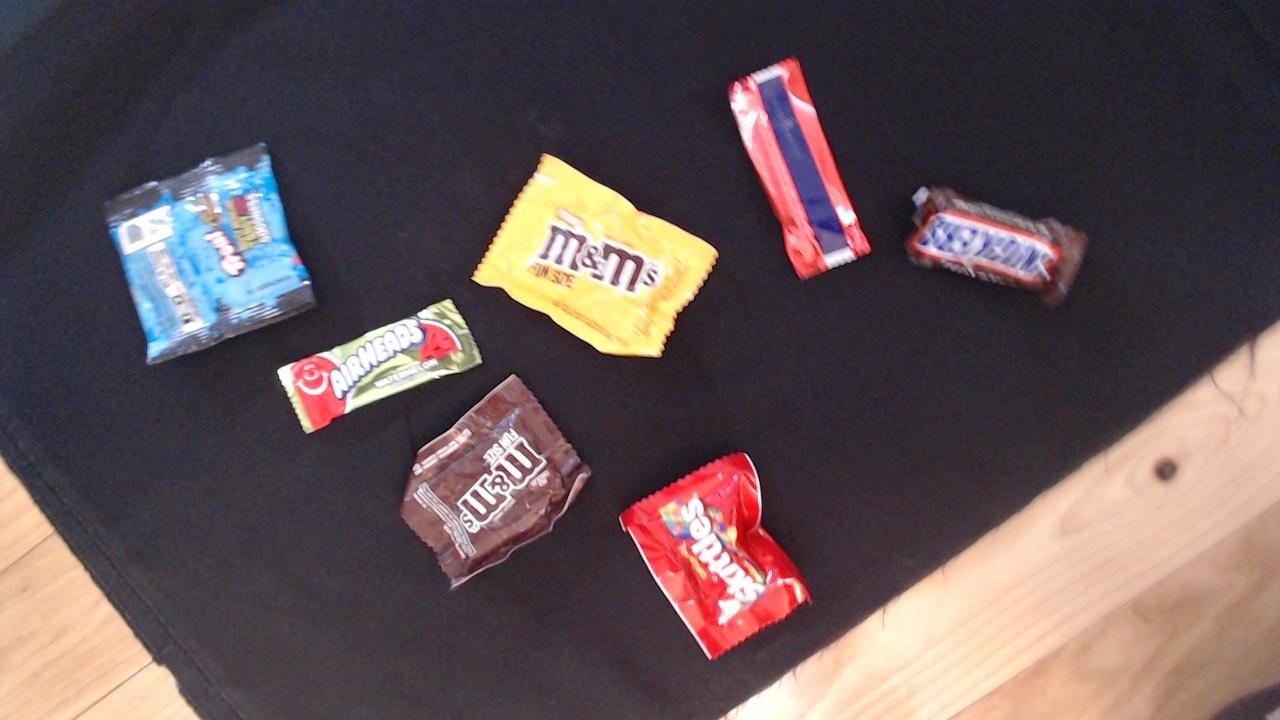MM_regular: (397, 374, 593, 594)
MM_yellow: (474, 148, 728, 368)
Snickers: (902, 170, 1093, 317)
Trolli: (99, 140, 327, 370)
airheads: (718, 52, 885, 289), (267, 296, 493, 434)
skittles: (617, 450, 818, 660)
